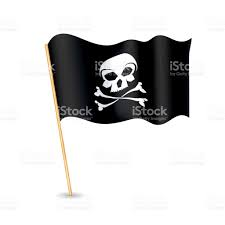Jolly Roger Flag: (38, 33, 197, 128)
